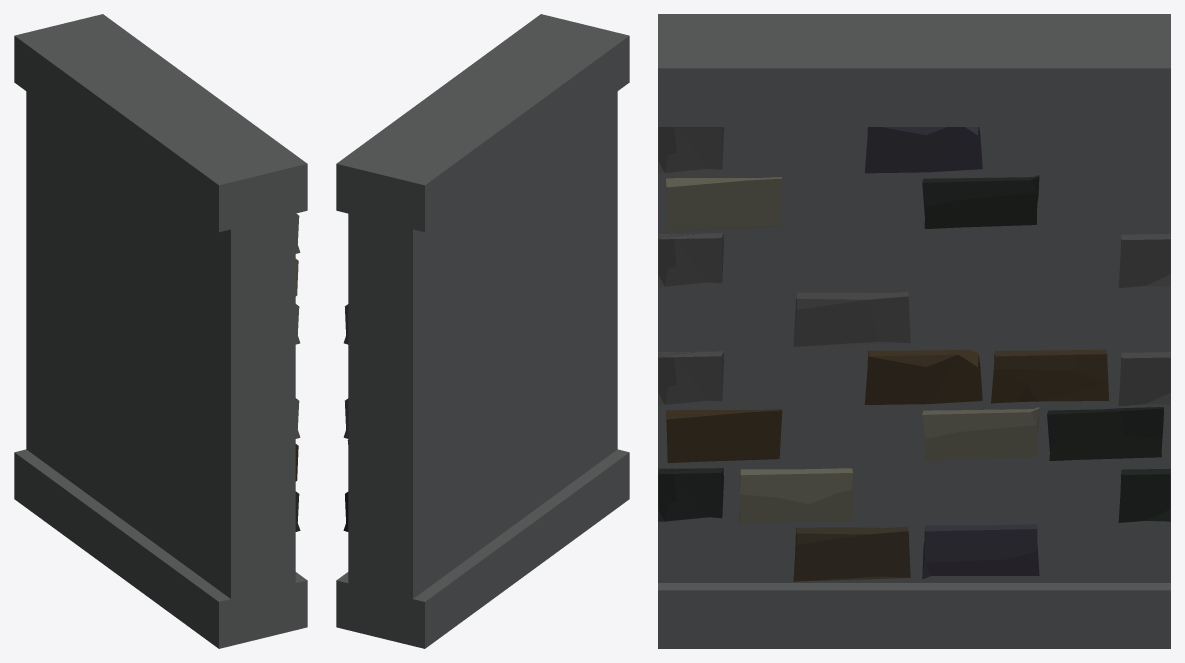
File: Wall4.fbx
3 views of the same model, side by side, from view 1: azimuth 30°, elevation 25°; view 2: azimuth 150°, elevation 25°; view 3: azimuth 270°, elevation 25° (orthographic). The views are drawn at different scales.
Visible parts, largest first — view 1: Wall5; view 2: Wall5; view 3: Wall5.
Boxes of the visible parts, left/top/right/bottom form: Wall5: left=14, top=14, right=307, bottom=648; Wall5: left=336, top=14, right=629, bottom=648; Wall5: left=658, top=14, right=1170, bottom=648.
Size of the model in its own units: 100 by 500 by 400.
